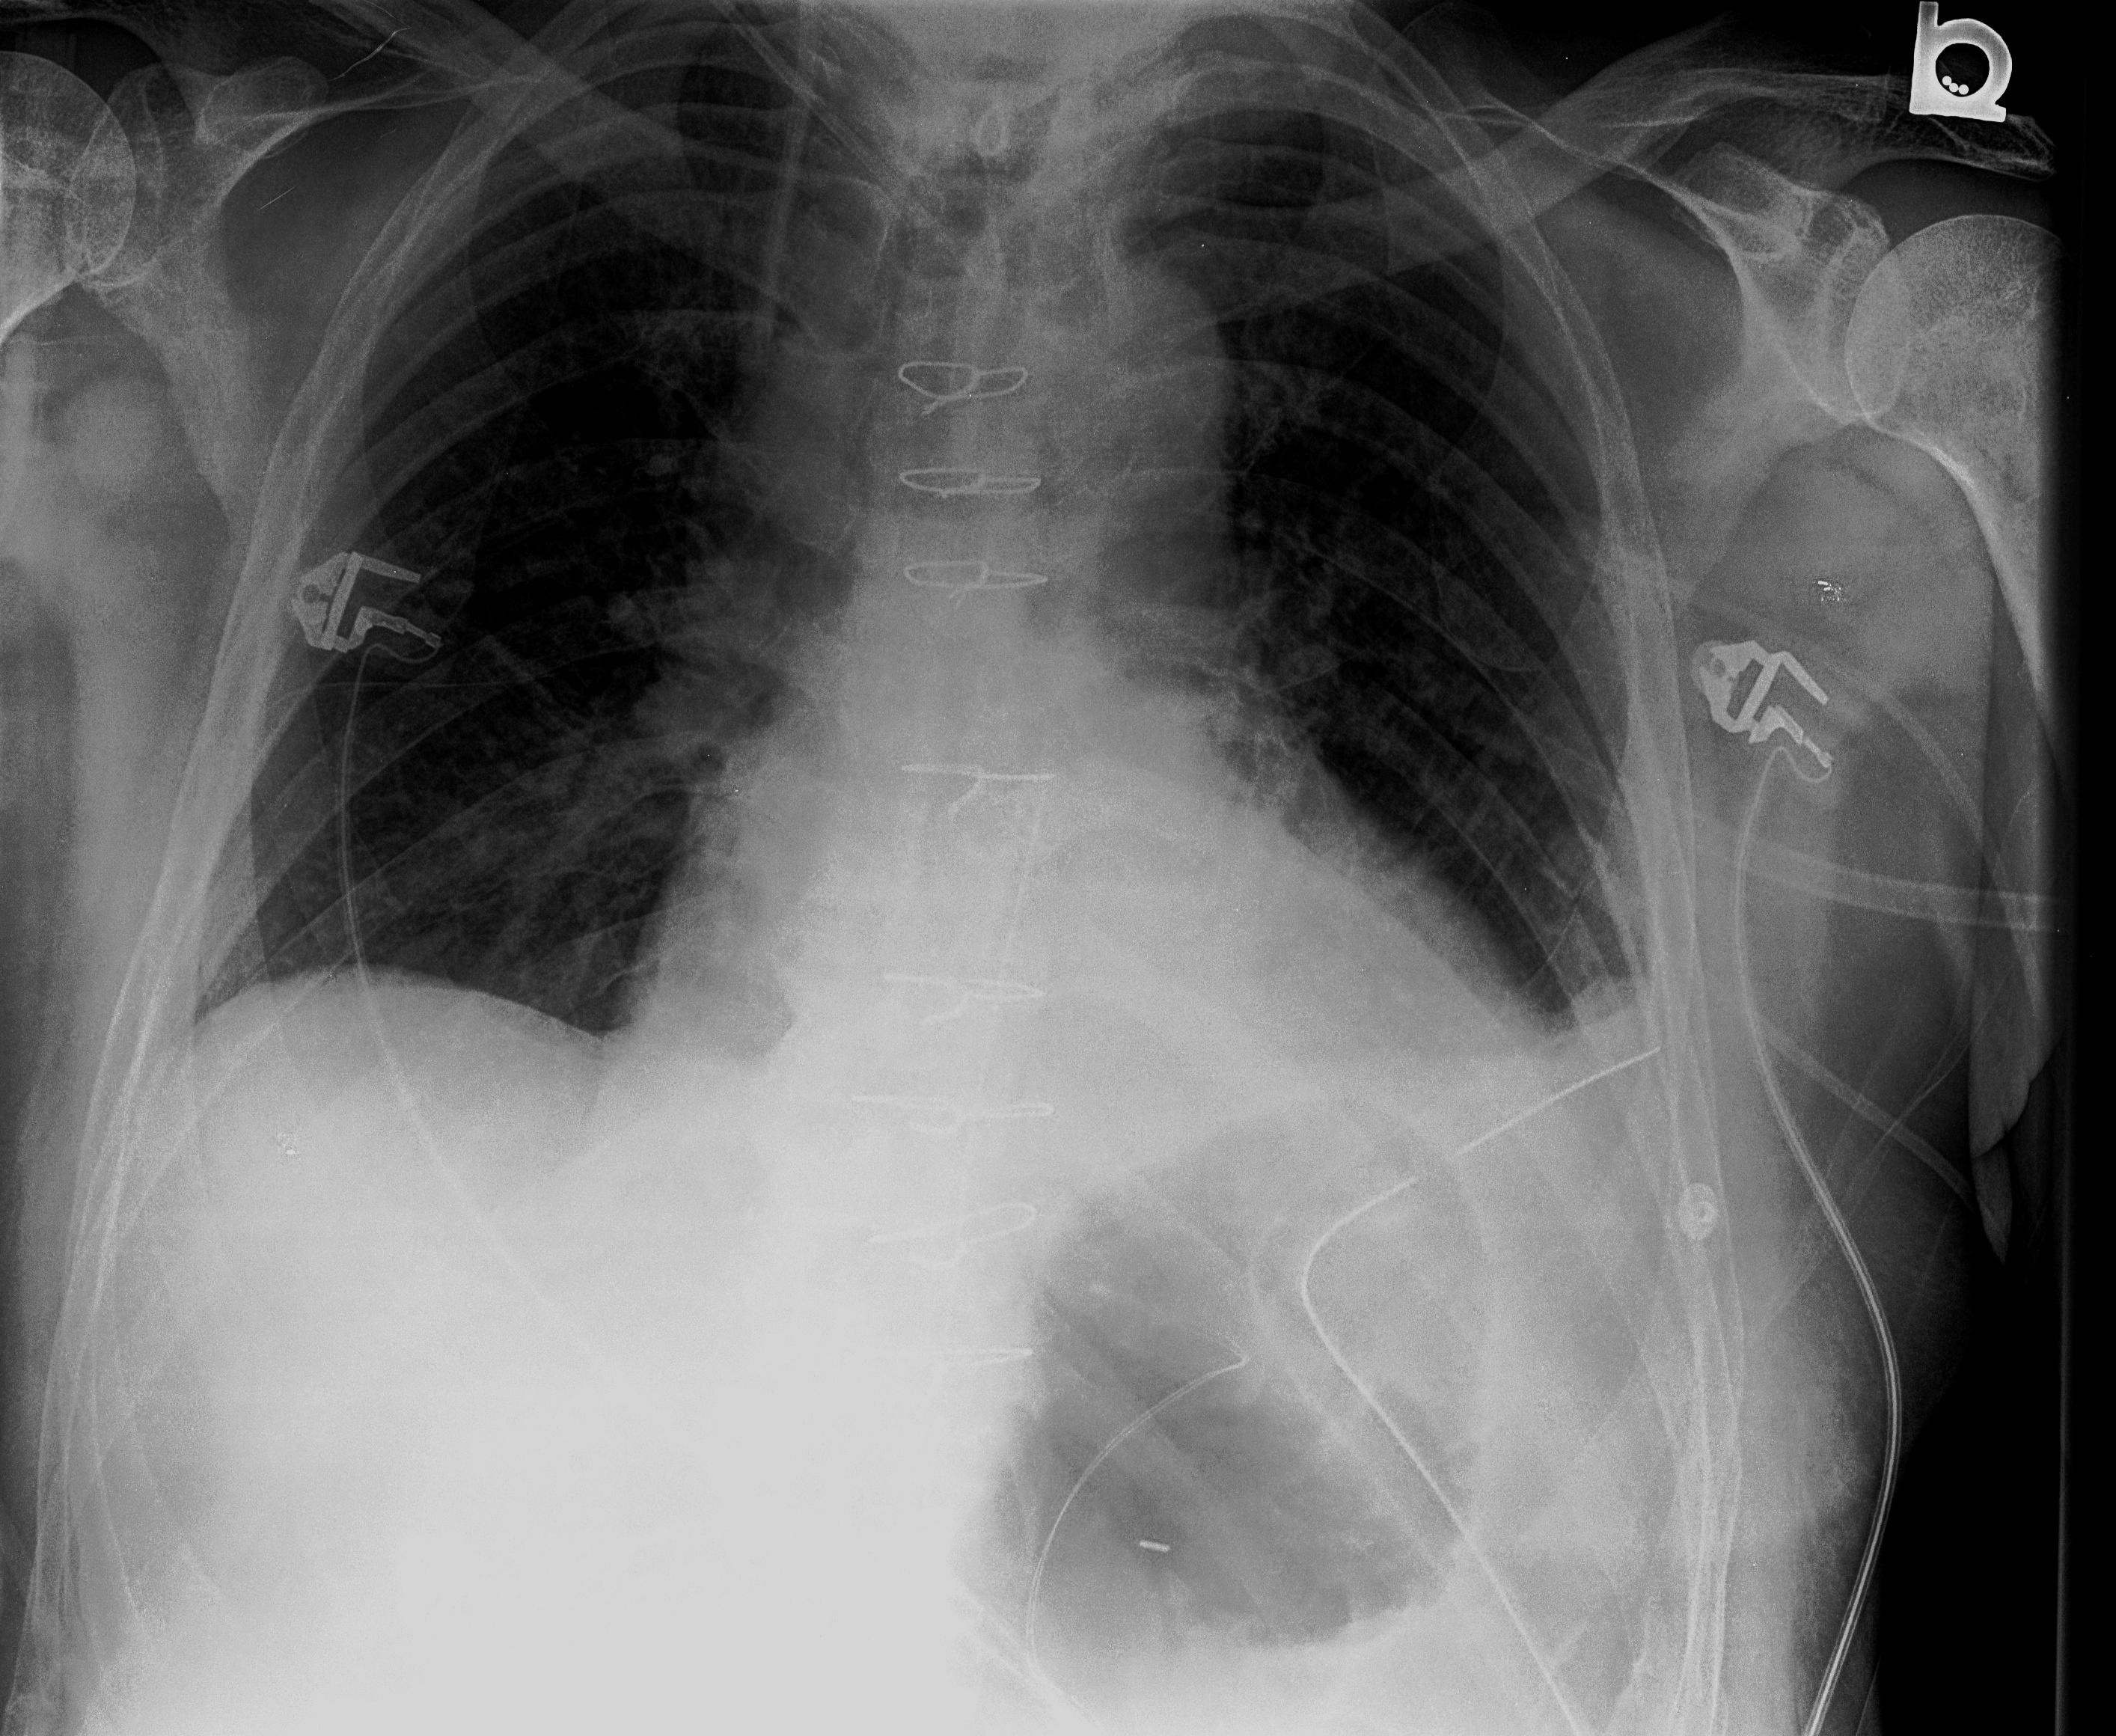Pleural Effusion: (1374, 965, 1722, 1439)
